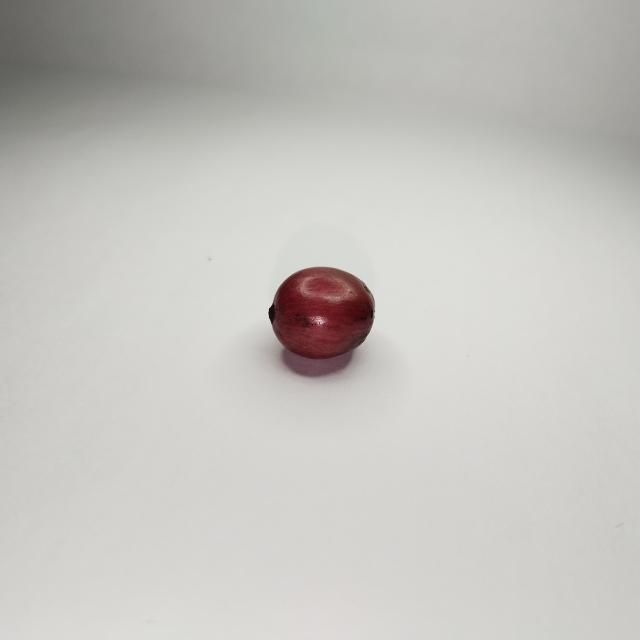Sano: (269, 267, 374, 360)
